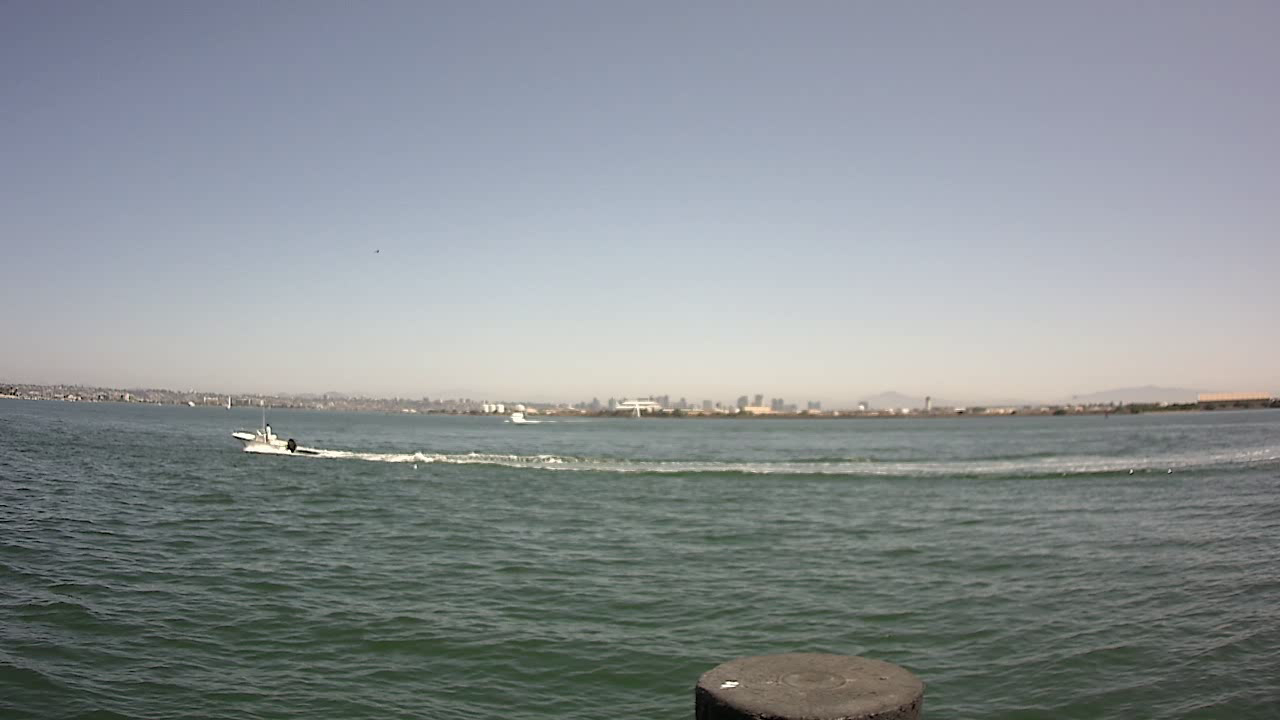target: (231, 414, 325, 463)
